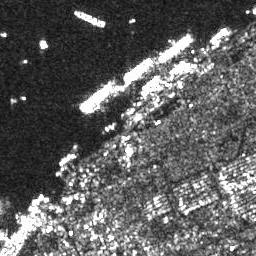ship: (155, 30, 191, 63), (120, 57, 153, 81), (74, 8, 105, 27), (210, 24, 232, 43), (57, 153, 76, 166), (29, 193, 46, 206)
